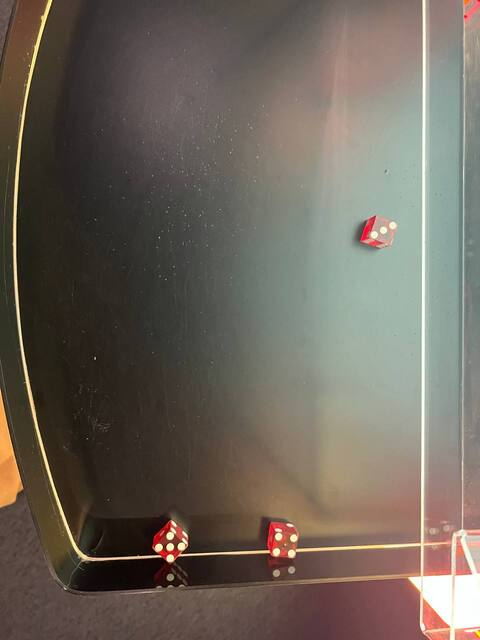five: (150, 530, 189, 567)
four: (264, 530, 301, 563)
three: (364, 212, 401, 245)
